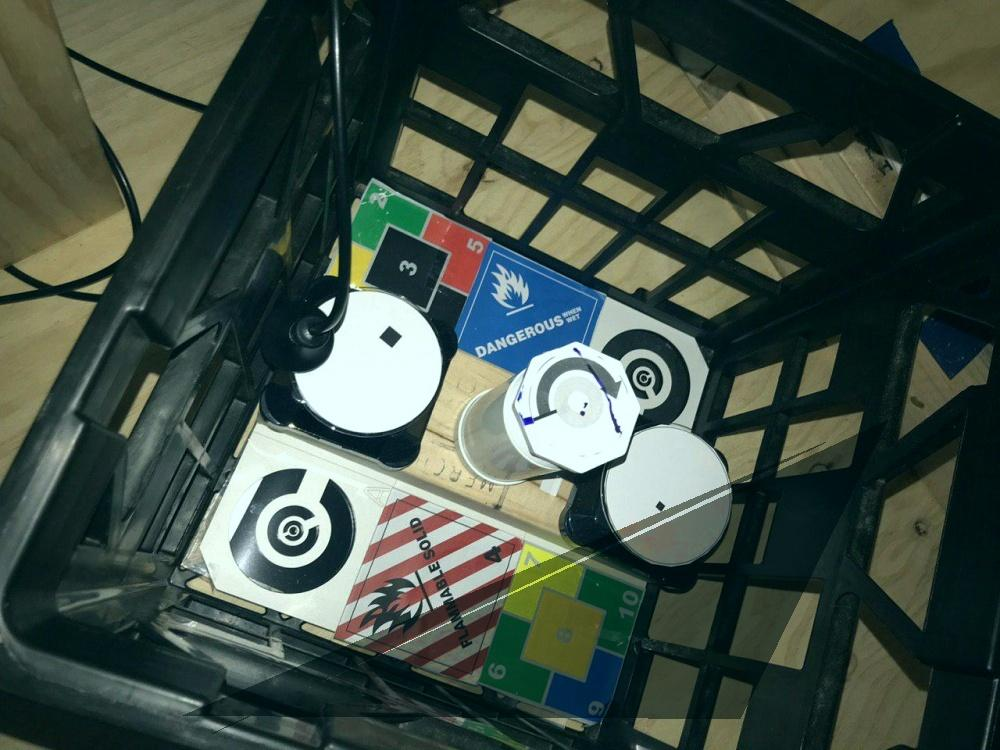dangerous-when-wet: (453, 241, 607, 408)
flammable-solid: (335, 486, 525, 690)
